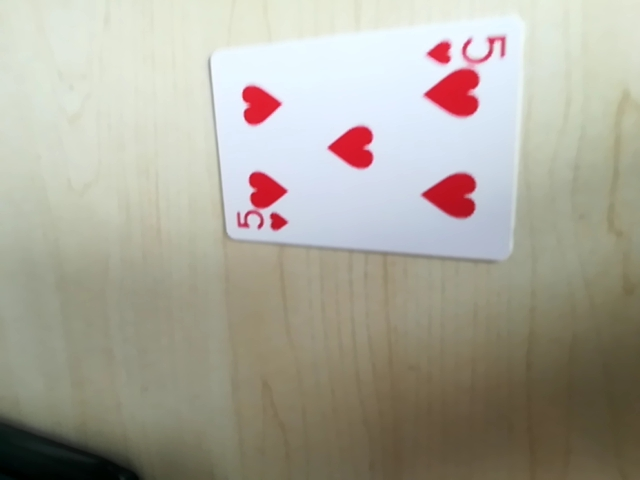hx 5: (422, 22, 510, 69), (233, 204, 292, 238)
